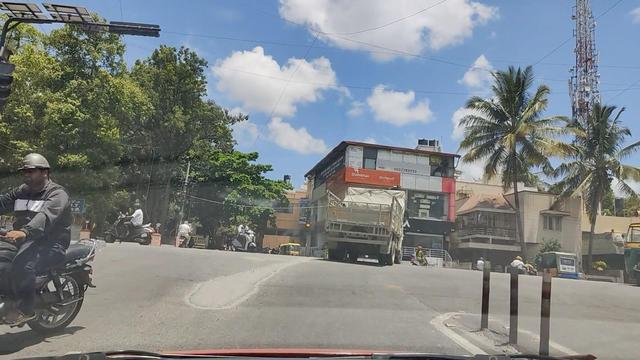HMV: (326, 182, 404, 261)
LMV: (0, 151, 108, 329)
RoadDamages: (174, 247, 302, 314)
